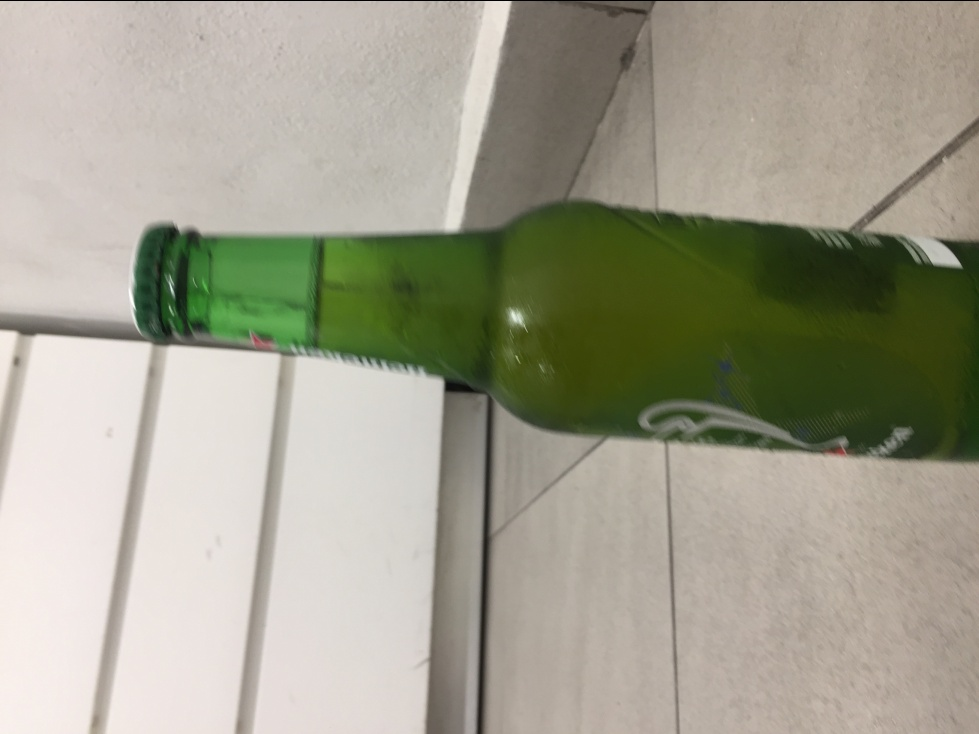heineken: (124, 197, 979, 464)
